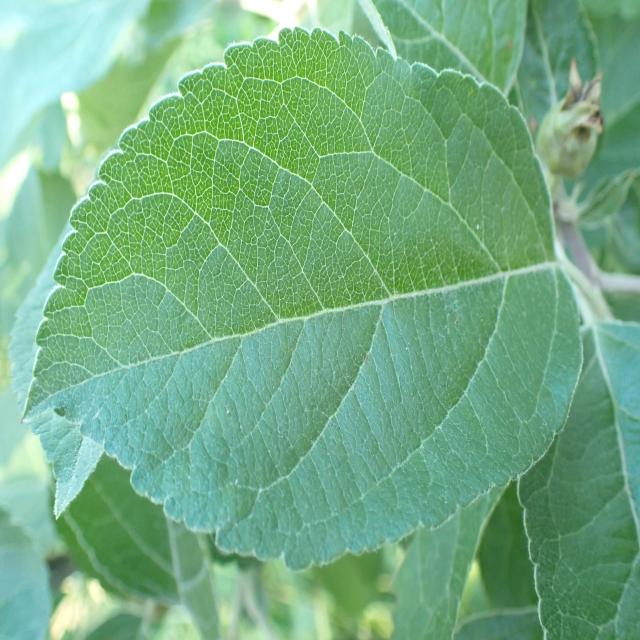healthy: (13, 23, 584, 571), (516, 303, 640, 640), (359, 0, 527, 102)
